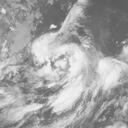cyclone: (30, 32, 94, 89)
